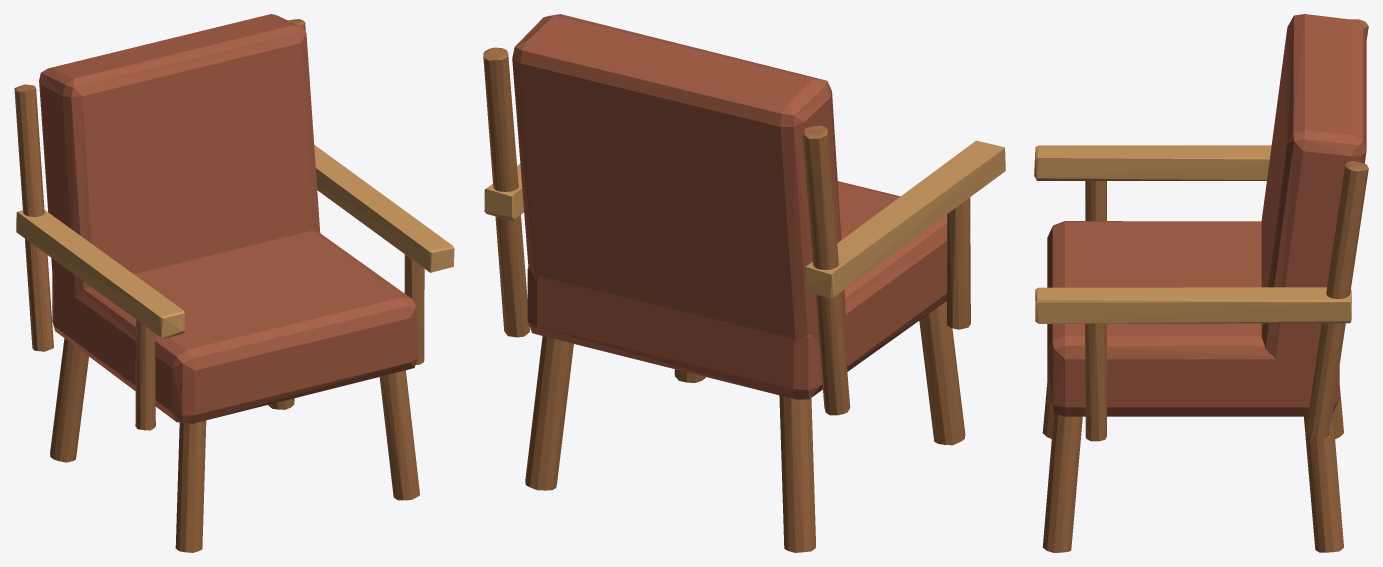
The model's file is wood-armchair-near.glb.
The picture shows the model from 3 angles, left to right: view 1: azimuth 30°, elevation 25°; view 2: azimuth 150°, elevation 25°; view 3: azimuth 270°, elevation 25°; orthographic projection. The views are drawn at different scales.
Visible parts, largest first — view 1: wood-armchair; view 2: wood-armchair; view 3: wood-armchair.
Boxes of the visible parts, bbox=[...] form: wood-armchair: bbox=[14, 14, 454, 552]; wood-armchair: bbox=[483, 14, 1005, 552]; wood-armchair: bbox=[1034, 14, 1368, 552].
Size of the model in its own units: 0.8296 by 1.05 by 0.7563.
